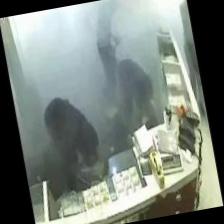smoke: (20, 0, 186, 155)
